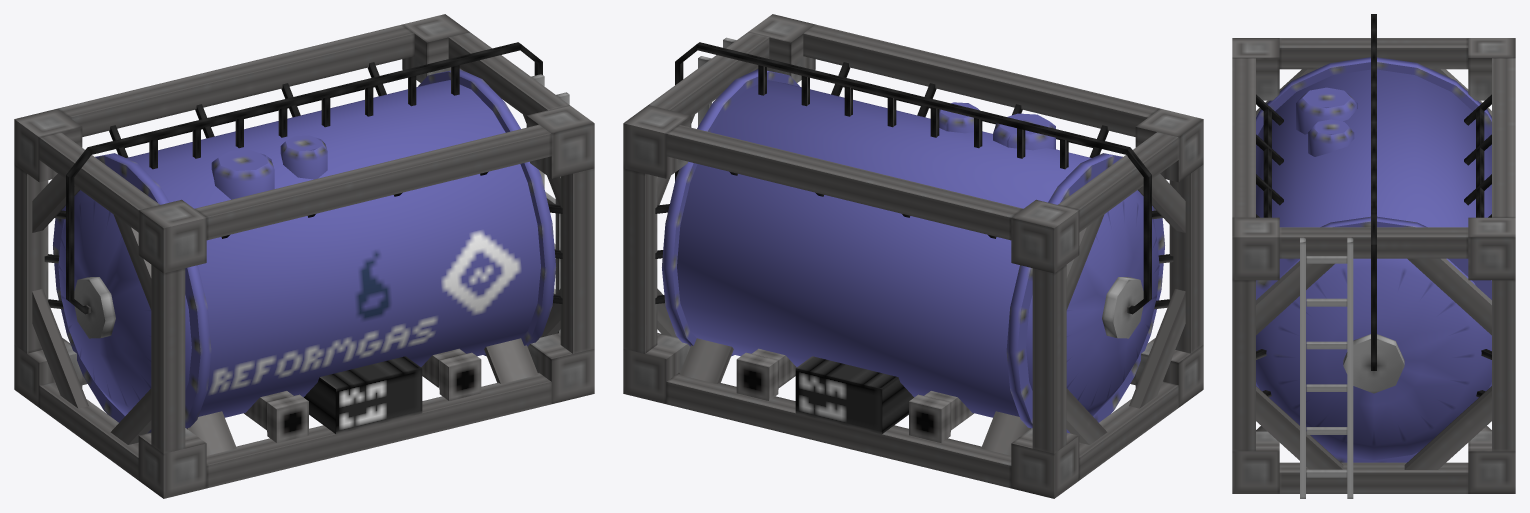
The model's file is machine_fluidtank_fluid_104.obj.
3 views of the same model, side by side, from view 1: azimuth 30°, elevation 25°; view 2: azimuth 150°, elevation 25°; view 3: azimuth 270°, elevation 25° (orthographic). The views are drawn at different scales.
Visible parts, largest first — view 1: Frame, Tank; view 2: Frame, Tank; view 3: Frame, Tank.
Part boxes in pixels (x1,y1,x2,y2): Frame: (14,14,594,498); Tank: (53,69,555,433); Frame: (623,14,1203,498); Tank: (662,69,1164,433); Frame: (1232,14,1515,498); Tank: (1256,57,1491,462).
Size of the model in its own units: 5.5 by 3.28 by 3.
